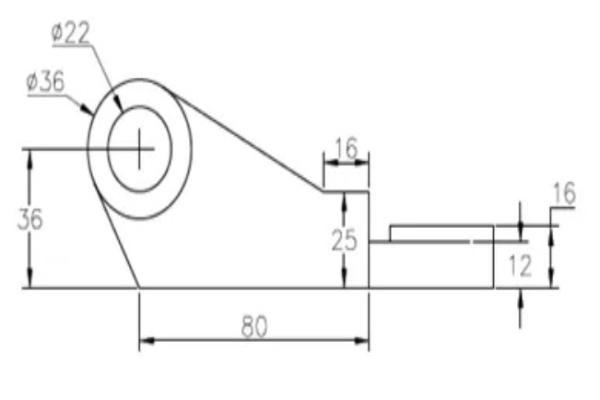dimensions: (16, 65, 70, 94), (542, 172, 584, 207), (318, 222, 366, 252), (44, 18, 94, 46), (328, 129, 366, 162), (235, 309, 273, 340), (12, 207, 54, 235), (505, 248, 538, 278)
